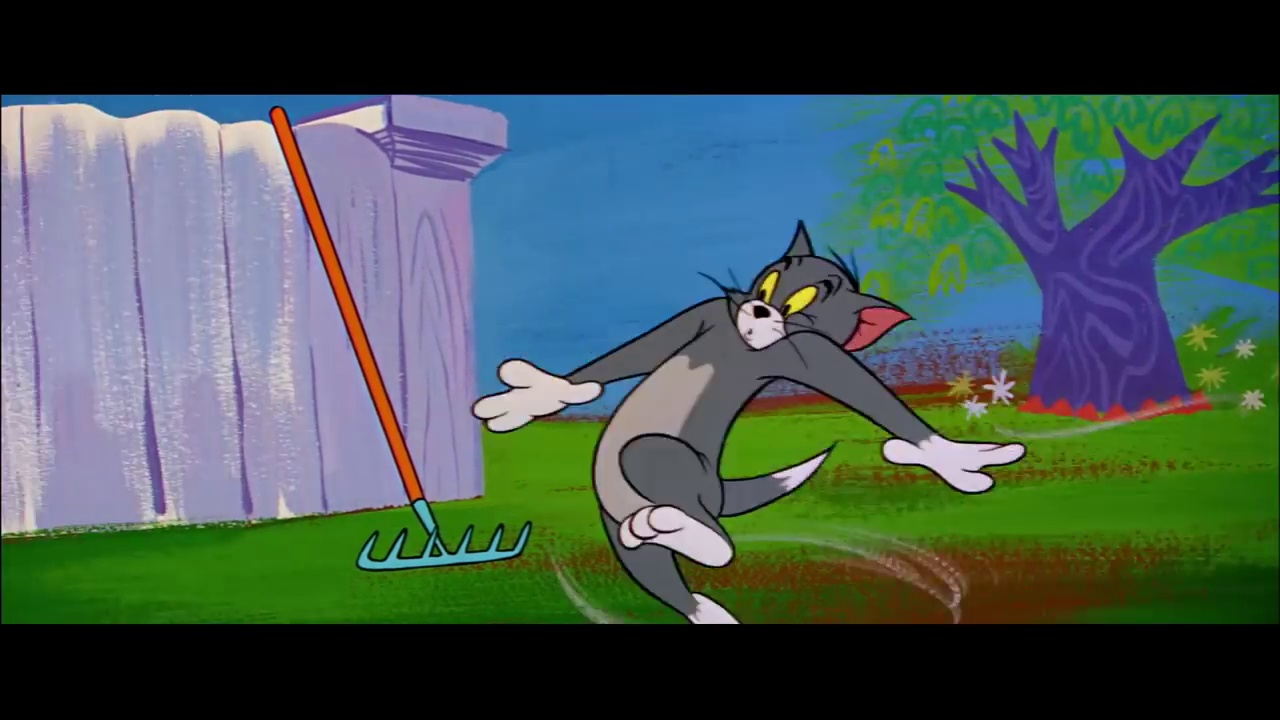tom: (709, 219, 914, 364)
